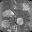people: (3, 9, 15, 18), (1, 19, 11, 28), (16, 18, 24, 26)
